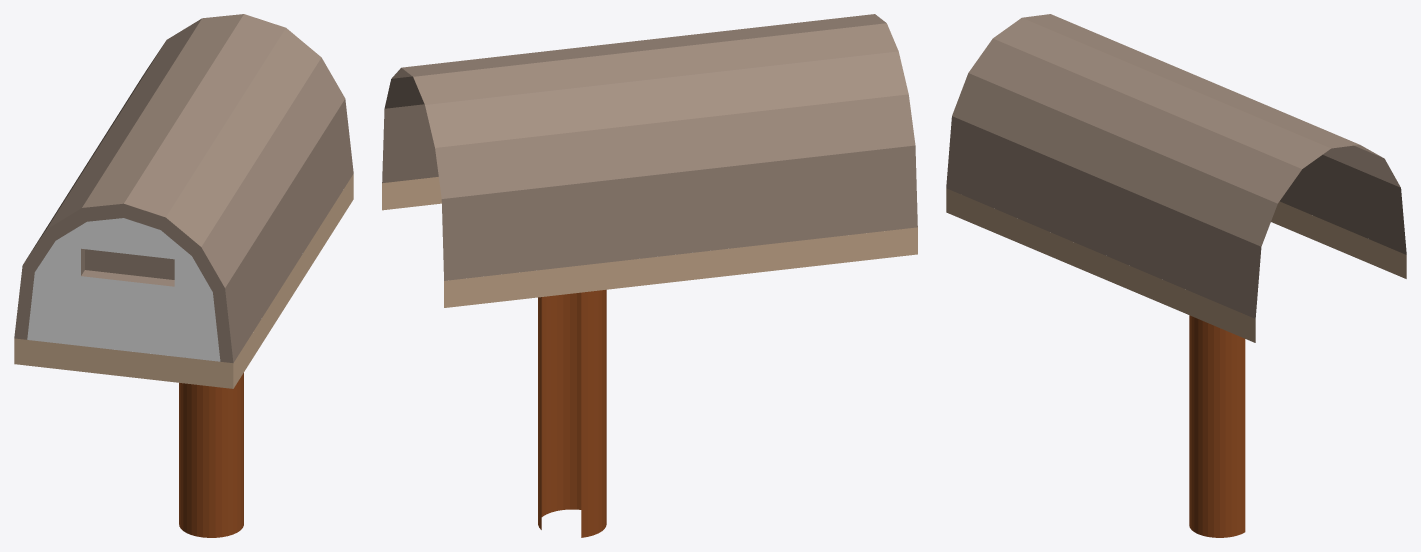
File: SupportMail.gltf
3 views of the same model, side by side, from view 1: azimuth 30°, elevation 25°; view 2: azimuth 150°, elevation 25°; view 3: azimuth 270°, elevation 25° (orthographic). The views are drawn at different scales.
Parts seen in each view (by area): view 1: Mailbox; view 2: Mailbox; view 3: Mailbox.
Boxes of the visible parts, box(x1,y1,x2,y2) form: Mailbox: box(14, 14, 353, 537); Mailbox: box(382, 14, 917, 537); Mailbox: box(946, 14, 1406, 537).
Size of the model in its own units: 1.23 by 1.23 by 1.23.
